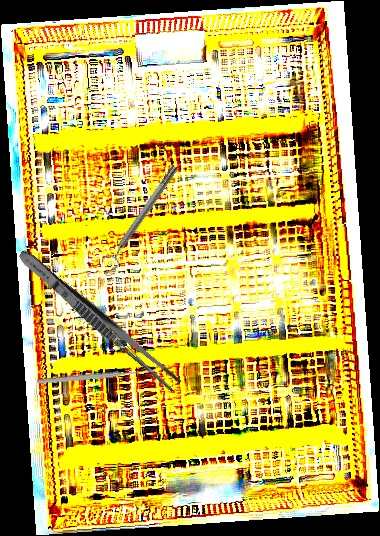Dressing Forceps: (14, 245, 184, 394)
Fixation Ring: (99, 161, 185, 272)
Surgical Spoon: (36, 367, 156, 386)
